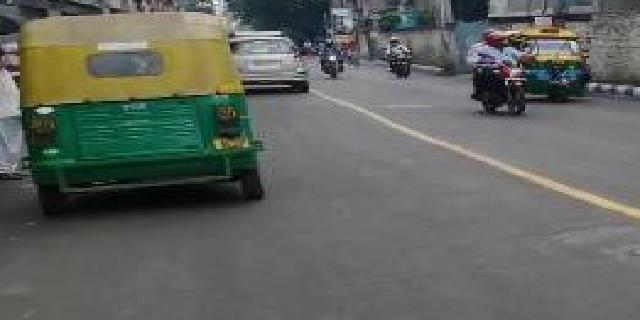Autorickshaw: (14, 13, 270, 207), (517, 28, 593, 101)
Car: (229, 28, 315, 95)
Motorbike: (466, 27, 529, 118), (376, 33, 415, 78), (321, 37, 346, 78)
